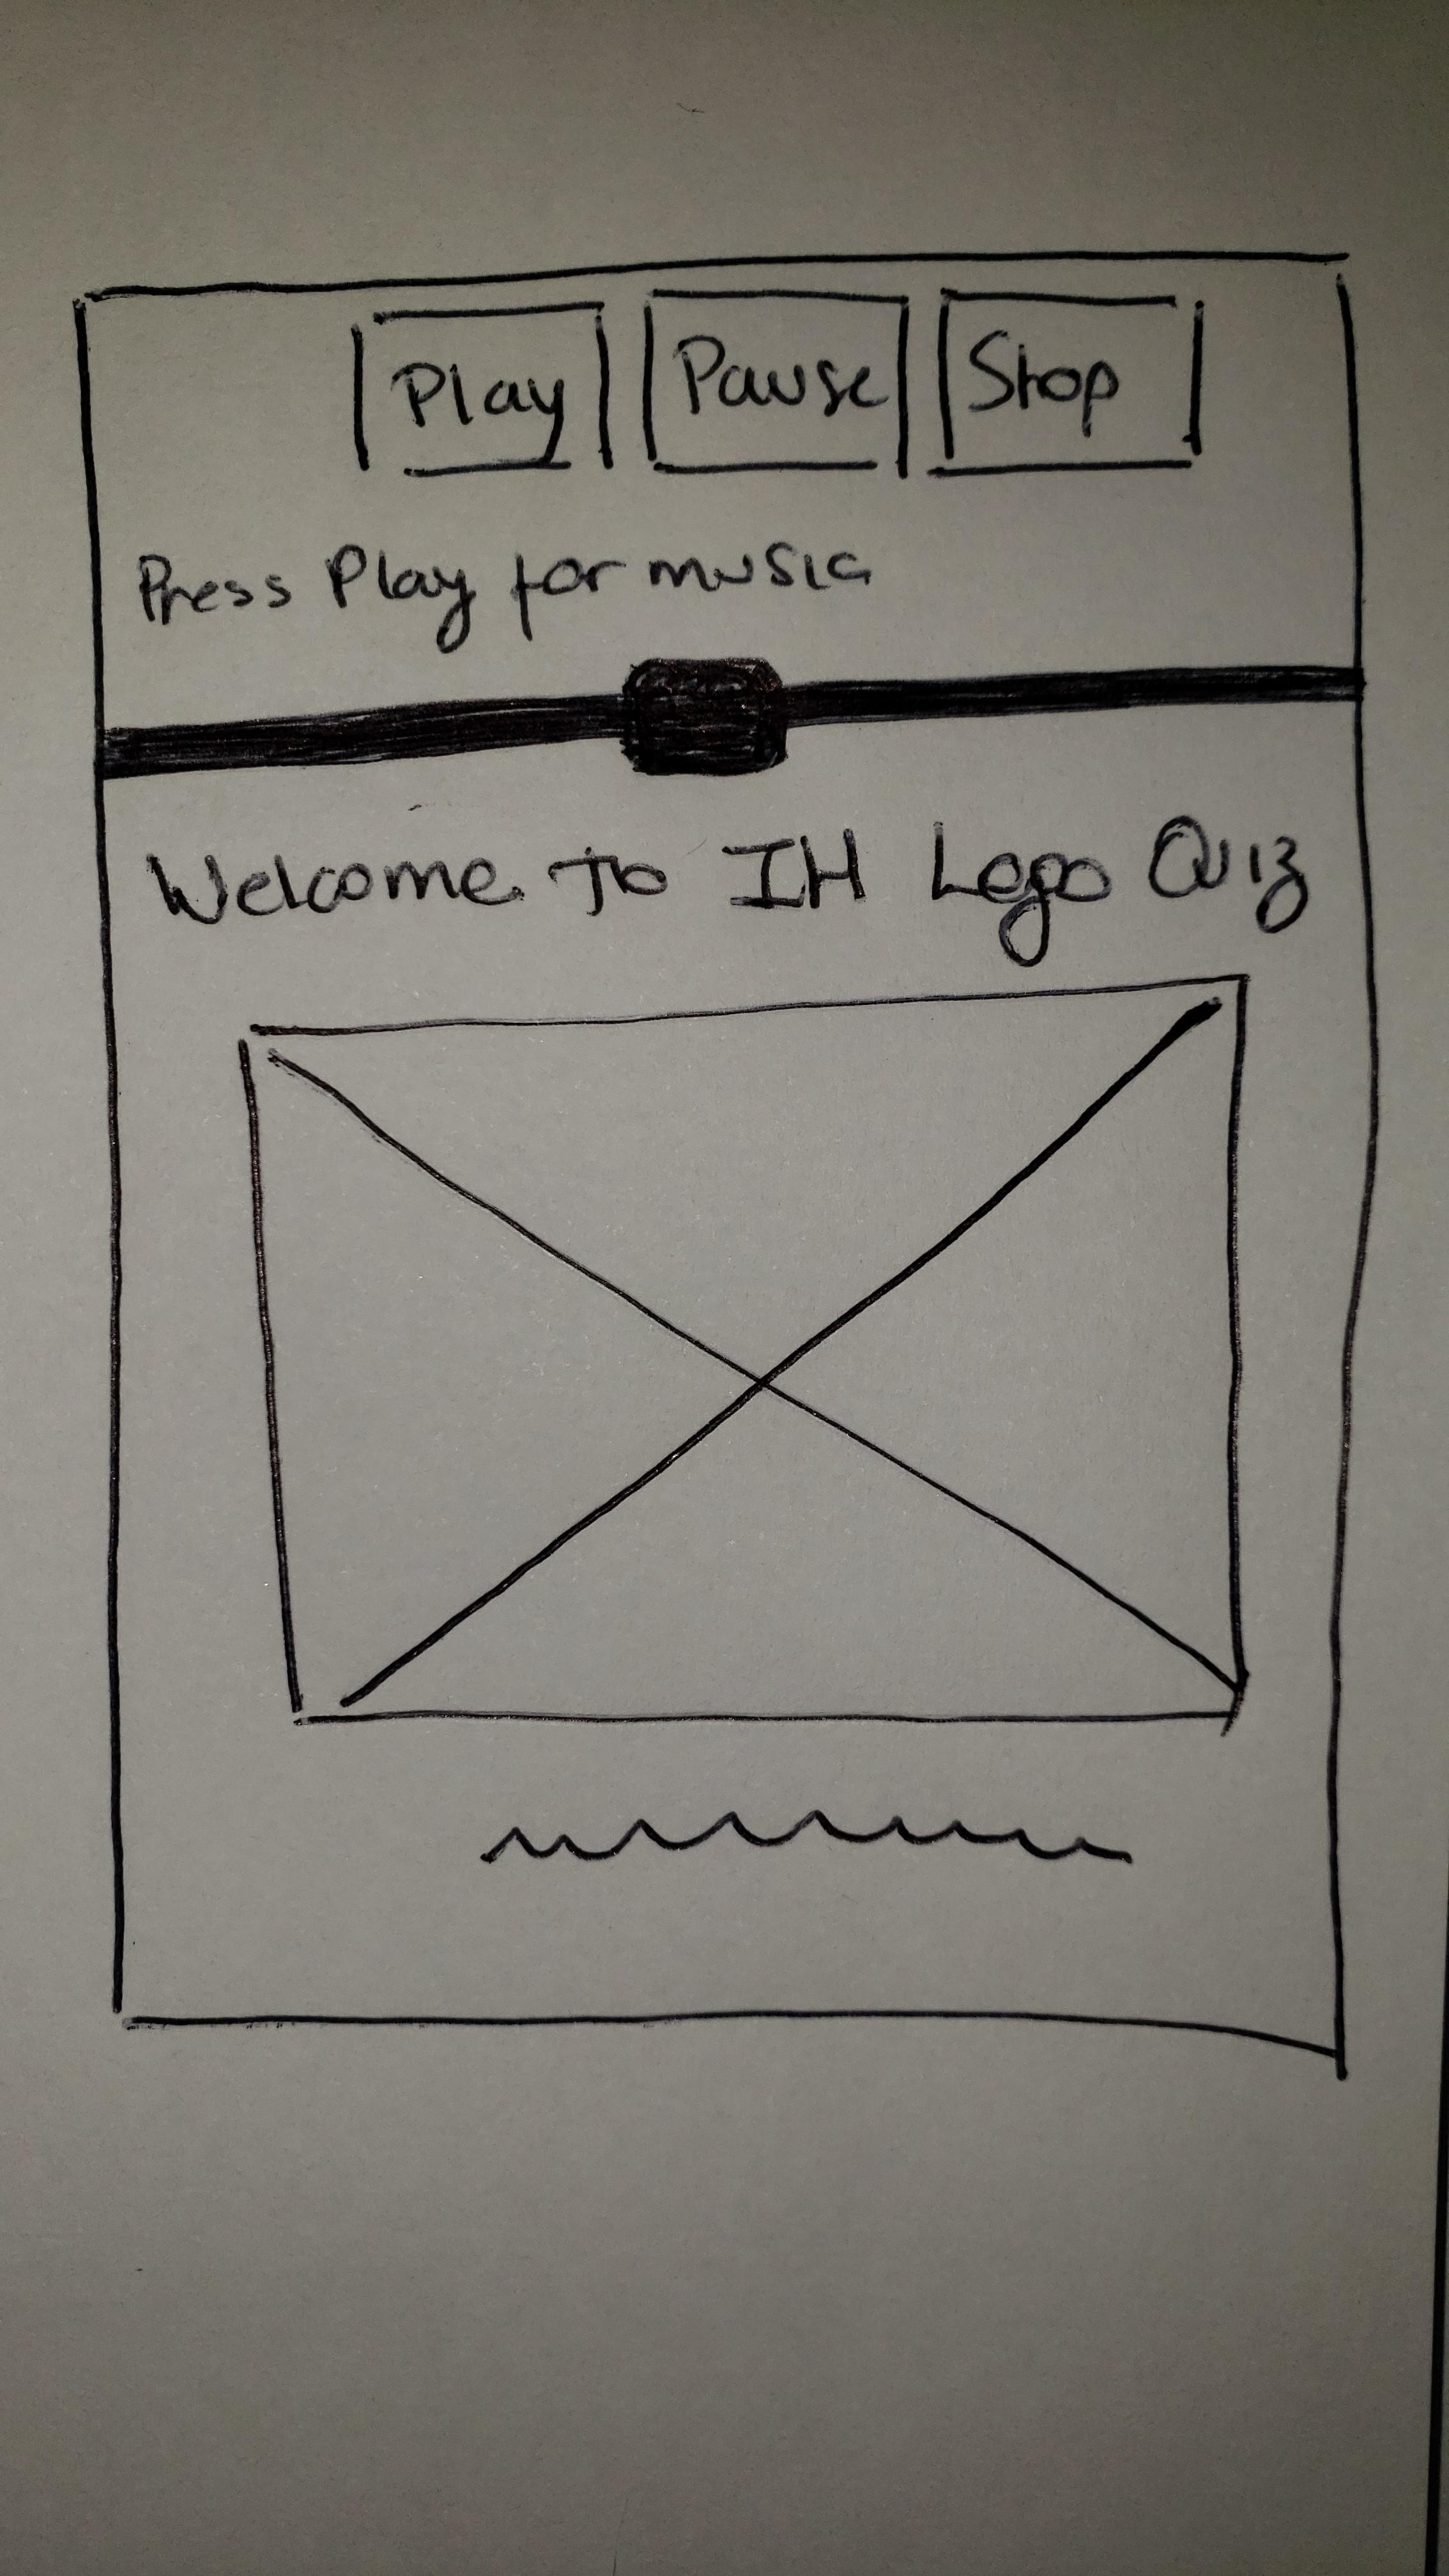Button: (640, 283, 913, 474), (936, 285, 1207, 474), (352, 295, 612, 478)
Image: (234, 971, 1251, 1725)
Label: (145, 812, 1309, 970), (134, 534, 872, 651), (476, 1803, 1138, 1874)
Screen: (69, 248, 1380, 2058)
Slider: (97, 653, 1361, 780)
